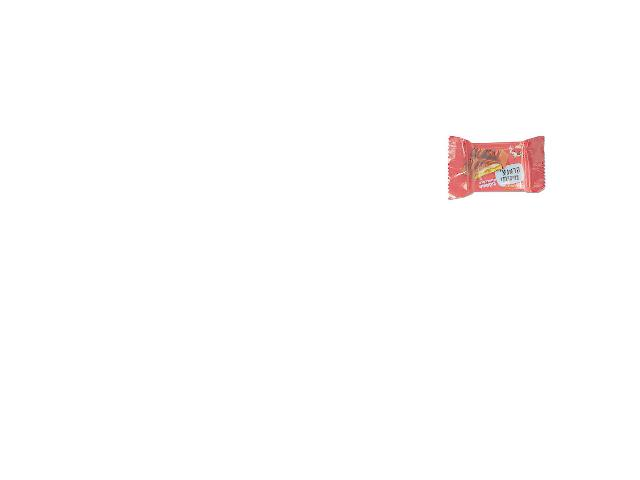chocolate: (447, 136, 553, 206)
